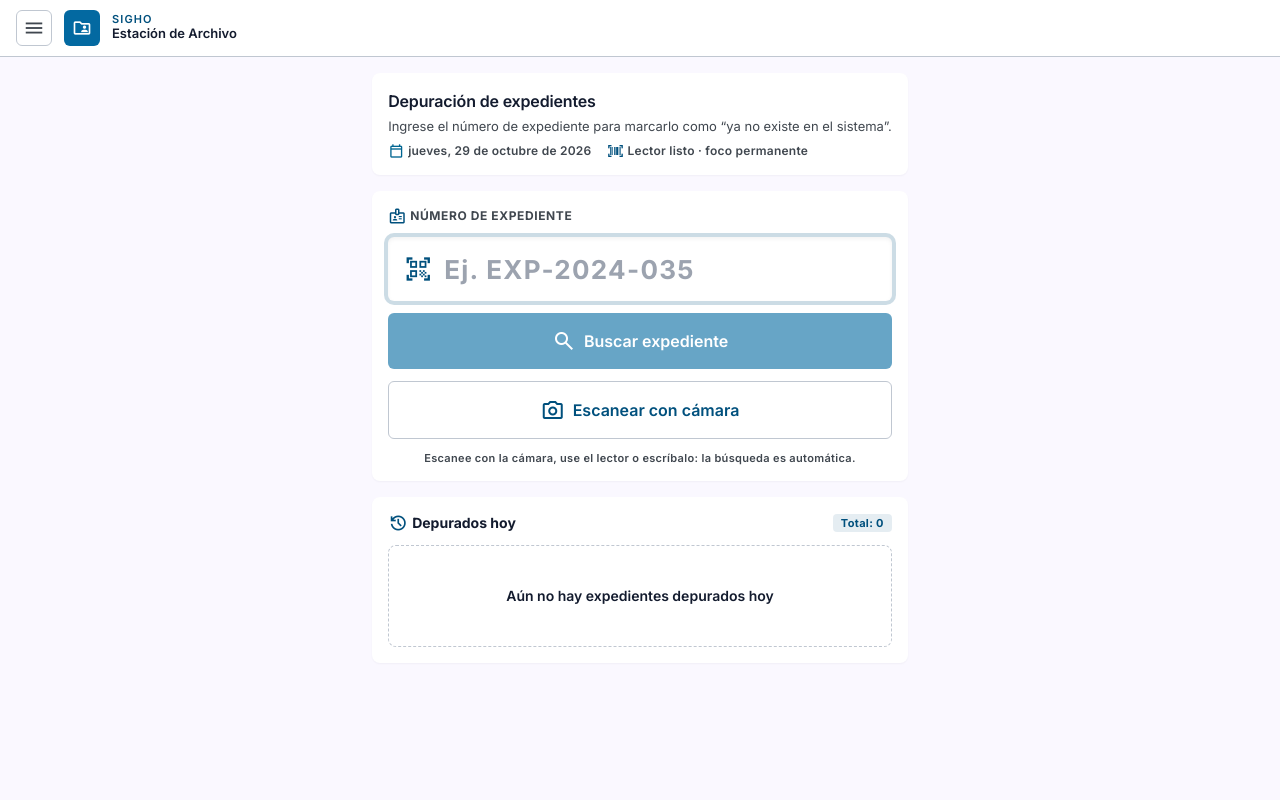
DepuracionExpedientesPage › busca al escribir, muestra el paciente y permite marcar como depurado
Type "EXP-2024-035" into the field labelled "Número de expediente".
click(640, 269); type("EXP-2024-035")  # box [388,237,892,301]
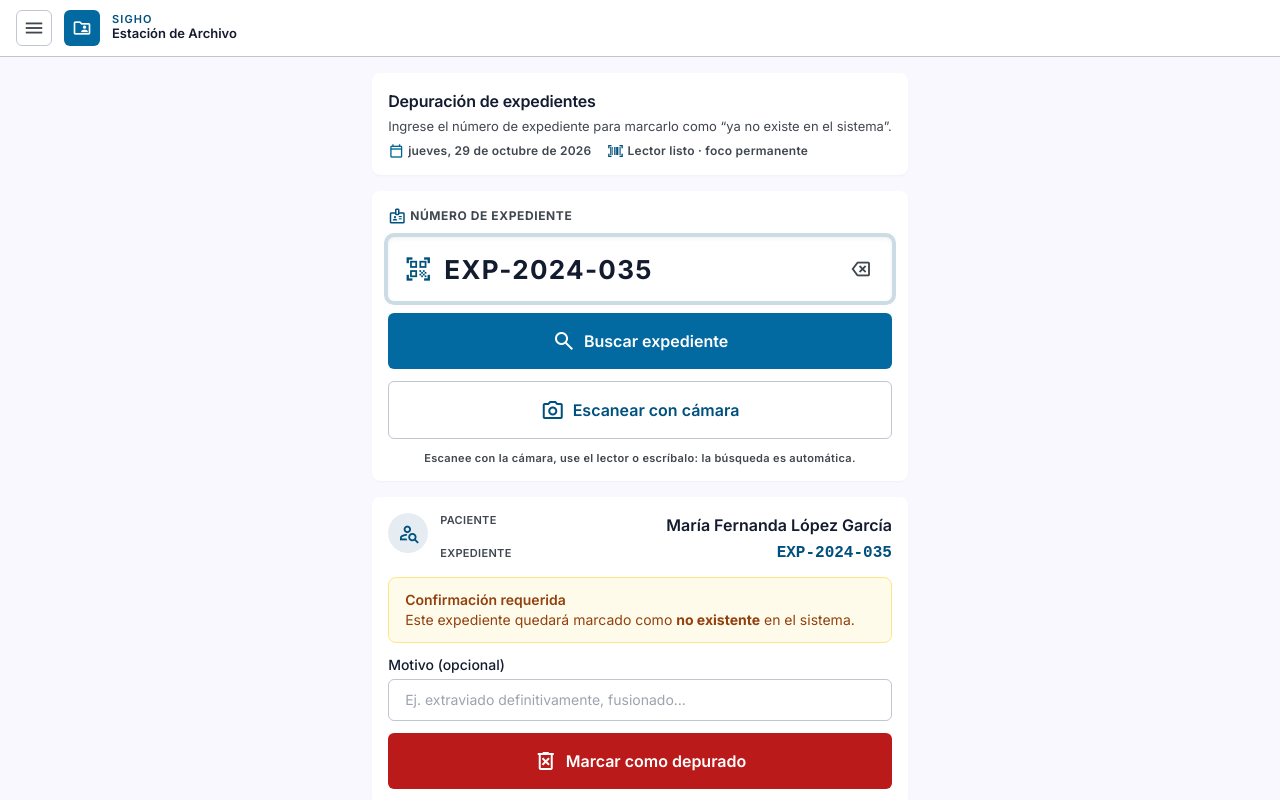
Expected: the text "María Fernanda López García" is shown, [666,513,892,537]
Click the button "Marcar como depurado".
click(640, 761)  # box [388,733,892,789]
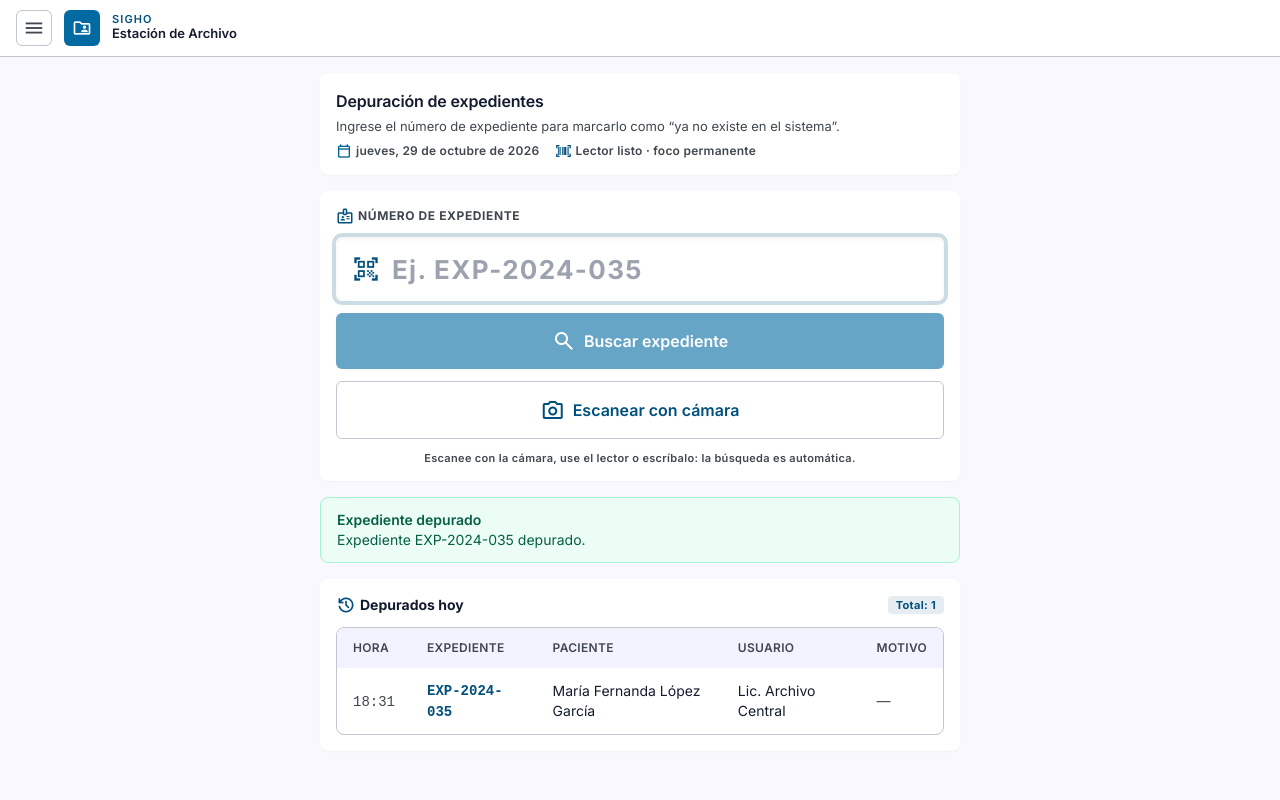
Expected: the text "Expediente depurado" is shown, [337,511,481,528]
Expected: the text "EXP-2024-035" is shown, [427,683,503,720]
Expected: the text "Total: 1" is shown, [888,596,944,614]
